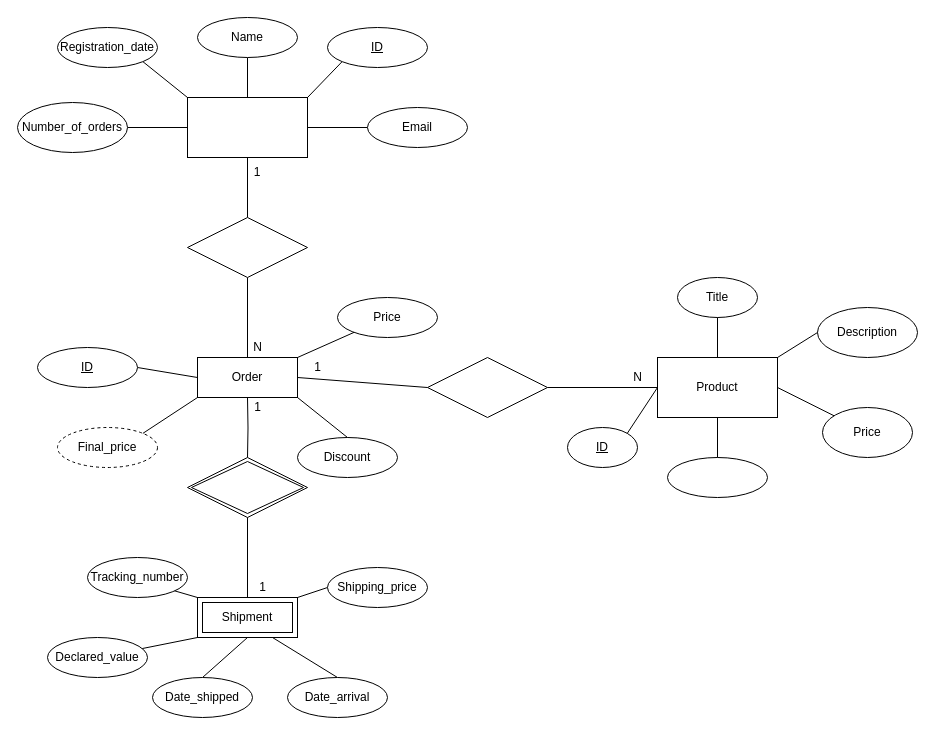
This 935x735 diagram has some shape labels left out. Here are the shapes that lost their labels. From the top down, the box of each, then its label:
(186, 96, 308, 158): Client
(186, 216, 308, 278): Places
(426, 356, 548, 418): Contains
(186, 456, 308, 518): Has
(666, 456, 768, 498): Type_of_clothe
